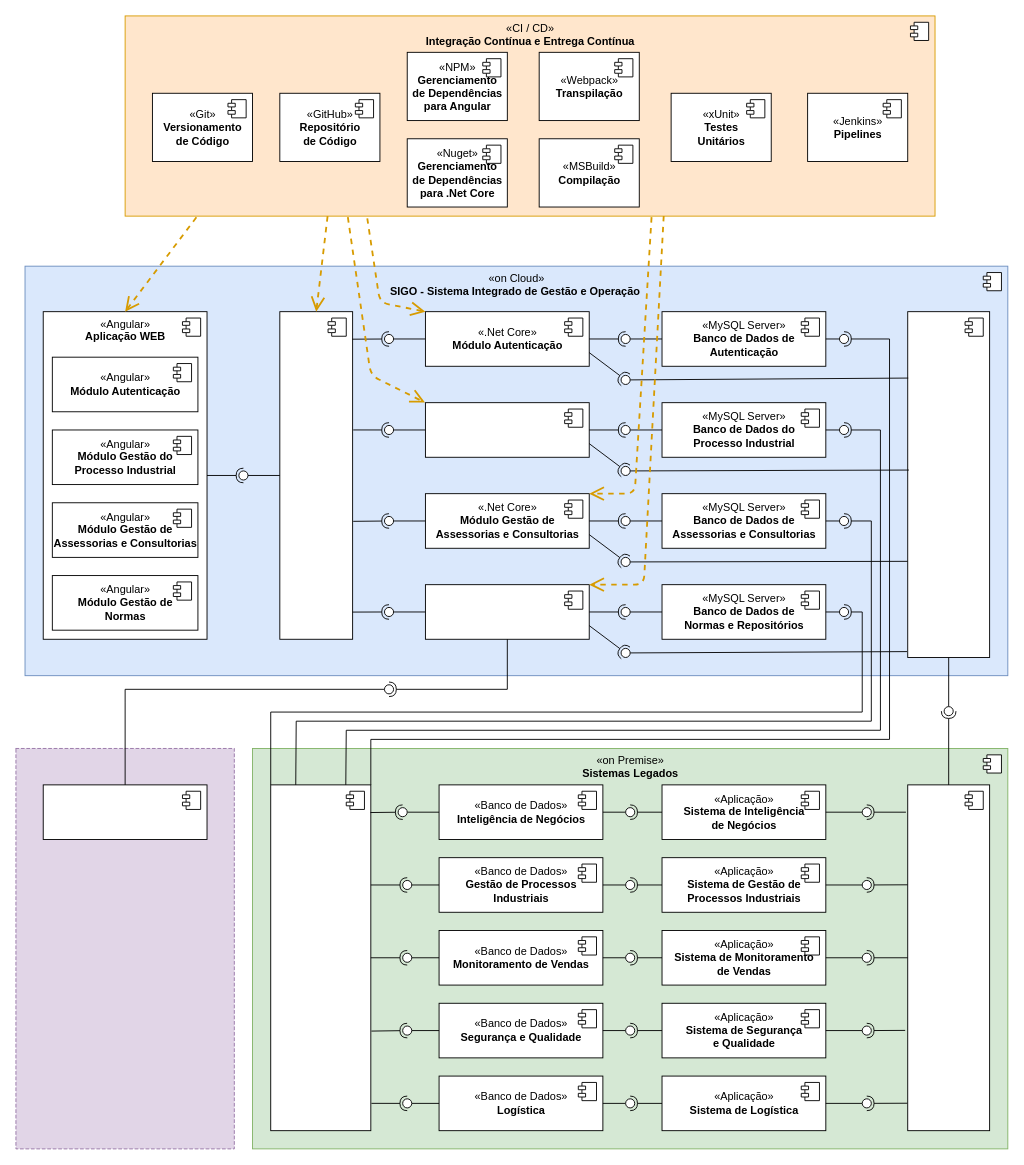
Some shapes in this 1024 by 1165 pixel diagram are drawn without their labels. The shapes that lost their labels are listed below. From the top down, each one's centre as x and y in pixels, then its label:
point 507,429: «.Net Core» Módulo Gestão do Processo Industrial
point 316,475: «.Net Core» API Gateway
point 948,484: «RabbitMQ» Intermediador de Mensageria
point 507,611: «.Net Core» Módulo Gestão de Normas
point 124,811: «SaaS» Repositório Externo de Normas
point 320,957: «Crystal Reports» Relatórios de Acompanhamento
point 948,957: «Mule ESB» Barramento de Serviços Corporativo
